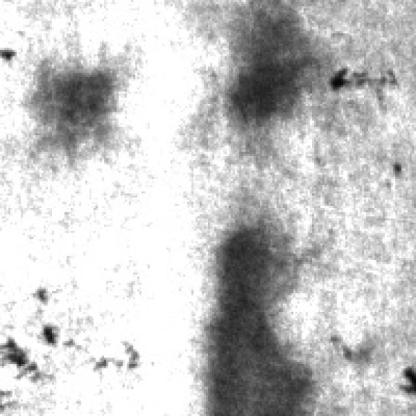patches: (210, 224, 312, 412), (224, 2, 326, 123), (38, 58, 124, 150)
